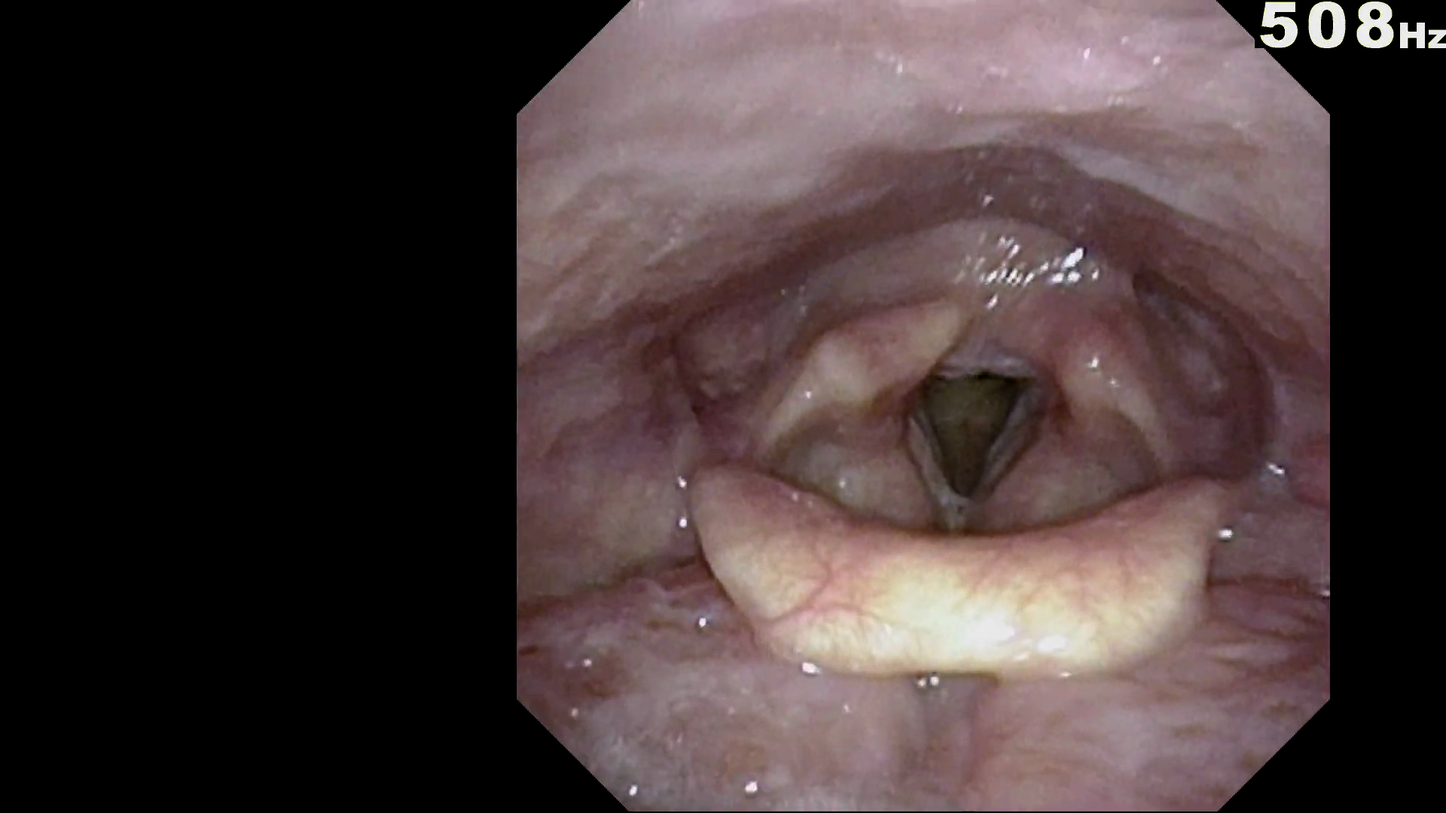epiglottis: (662, 411, 1252, 699)
trachea: (866, 327, 1070, 538)
